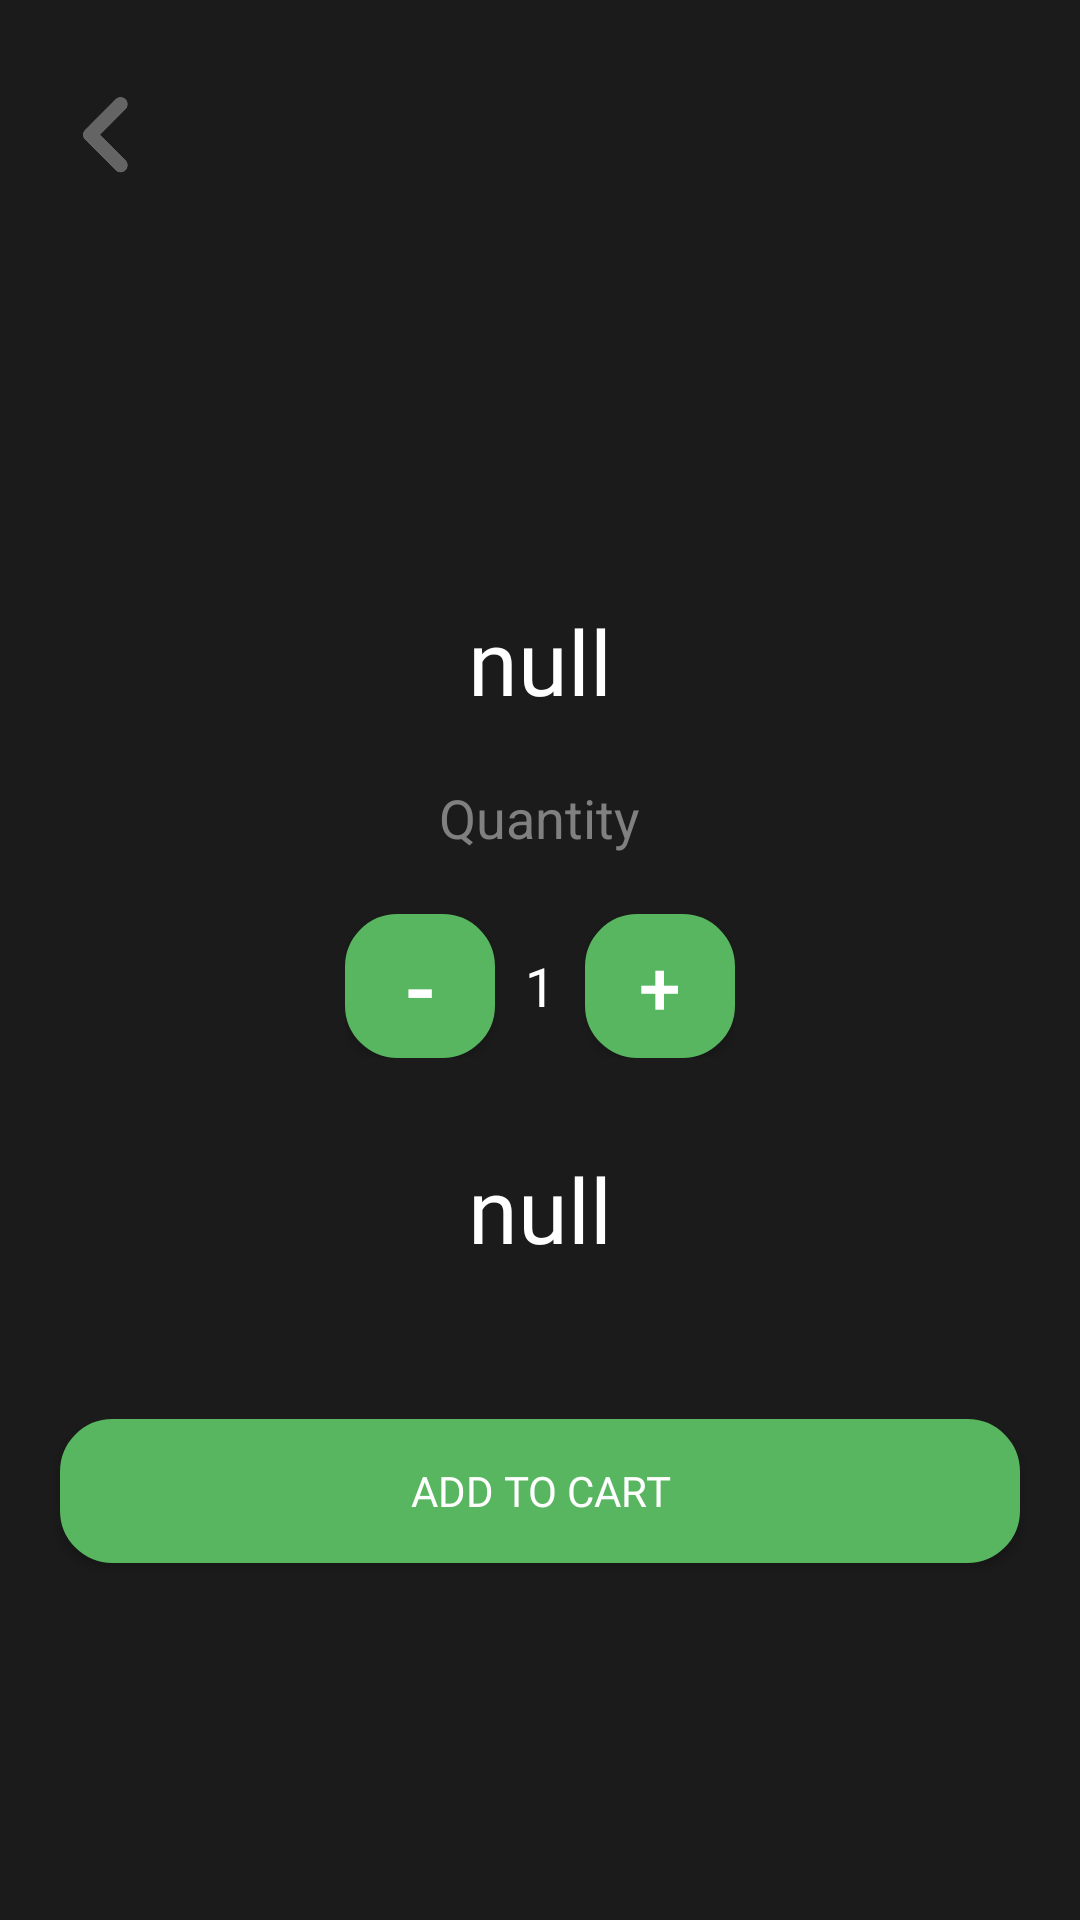

Locate icon controls on the screen. Image size 1080w x 1920h, boxes as BBox(x1, y1, x2, y2).
backbutton: BBox(83, 97, 128, 172)
